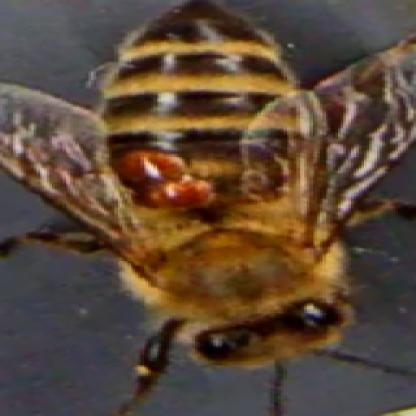bee: (95, 1, 343, 370)
vaoora: (120, 146, 185, 179), (155, 182, 216, 207)
